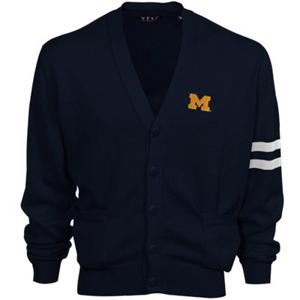C_cardigan sweater: (23, 10, 299, 300)
